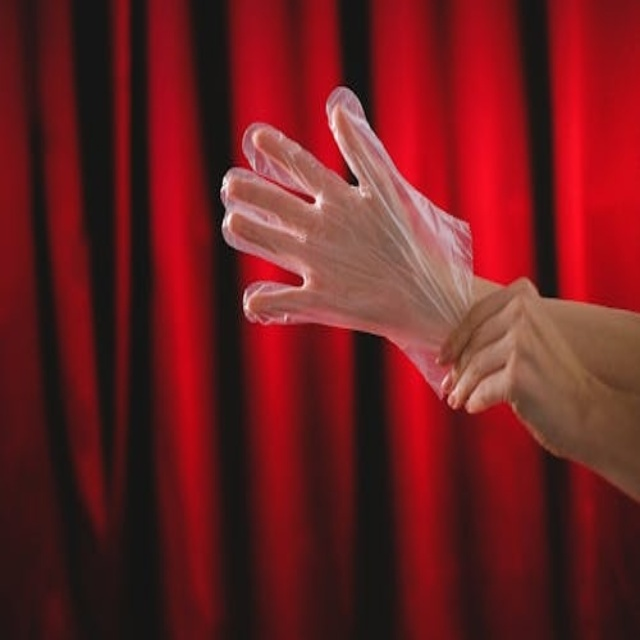Guantes: (215, 73, 484, 379)
Sin_guantes: (435, 263, 602, 480)
